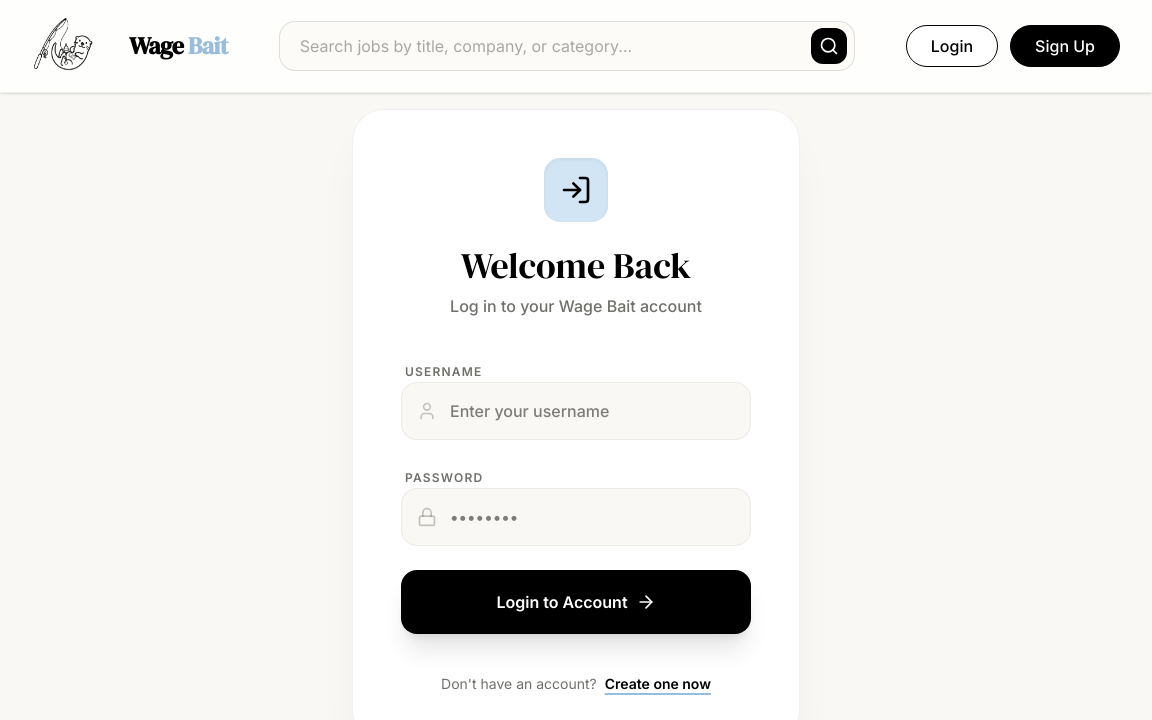
Test case: Login Component › shows error message if fields are empty
Click the button "Login to Account" at (576, 602), box [401, 570, 751, 634]
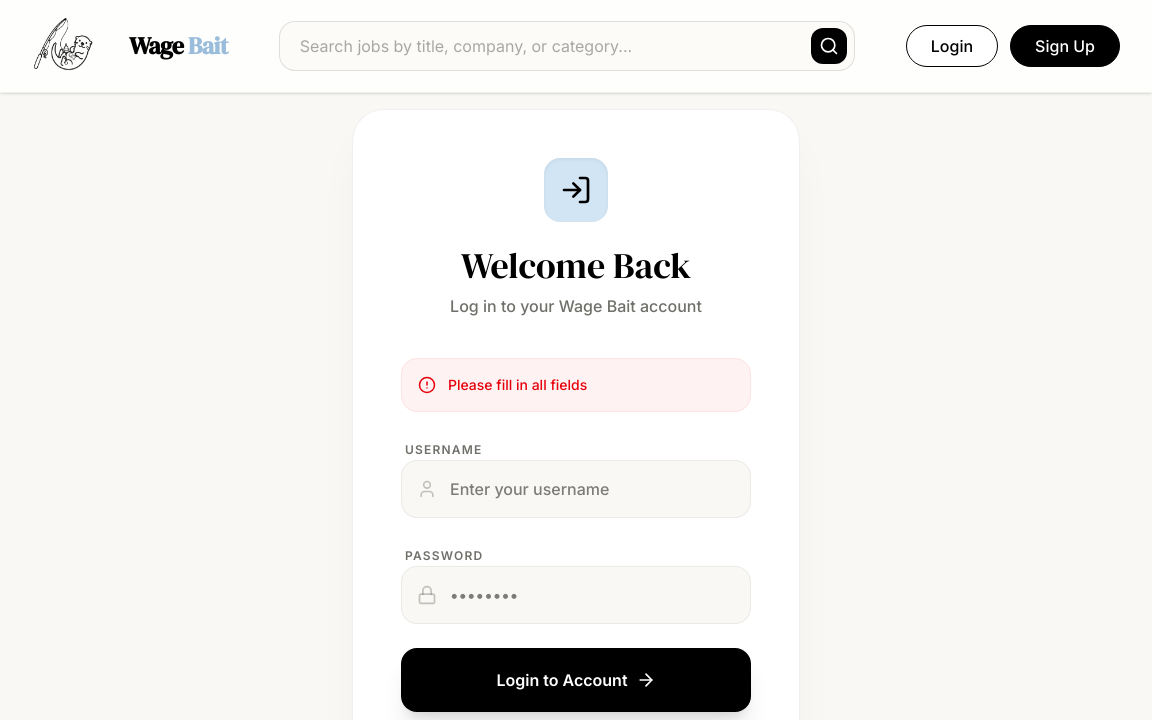
Now the text "Please fill in all fields" is shown, box [448, 375, 587, 395]
